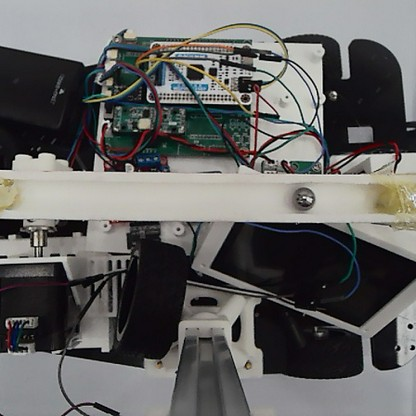ironball: (289, 185, 316, 213)
